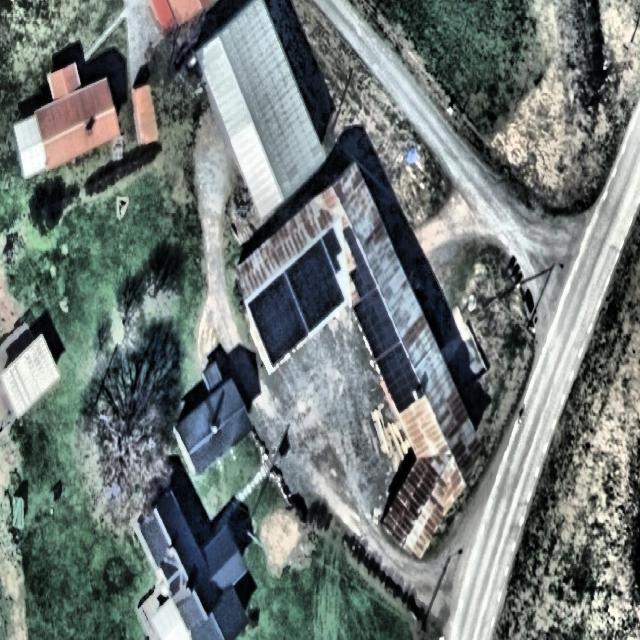roof_pv: (282, 228, 346, 330), (246, 271, 310, 368), (353, 288, 402, 355), (340, 225, 379, 305), (377, 346, 421, 416)
